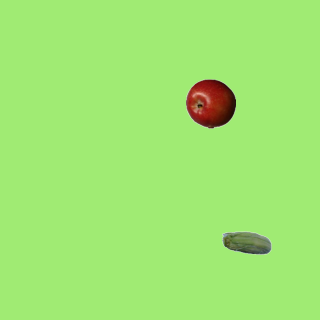Apple Braeburn: (185, 78, 235, 128)
Corn Husk: (221, 219, 271, 269)
